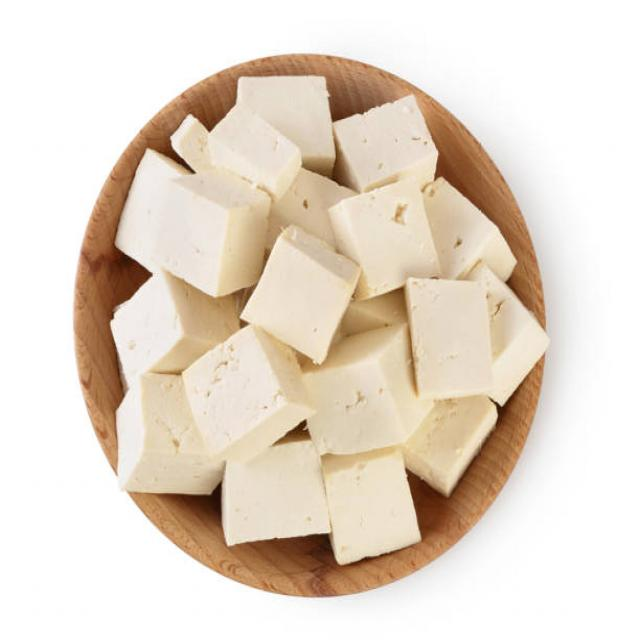tofu: (249, 226, 361, 364), (157, 172, 260, 299), (404, 272, 498, 404), (184, 352, 294, 462), (324, 447, 423, 564), (337, 98, 440, 199), (312, 351, 408, 450), (208, 103, 302, 188), (115, 376, 182, 493)
